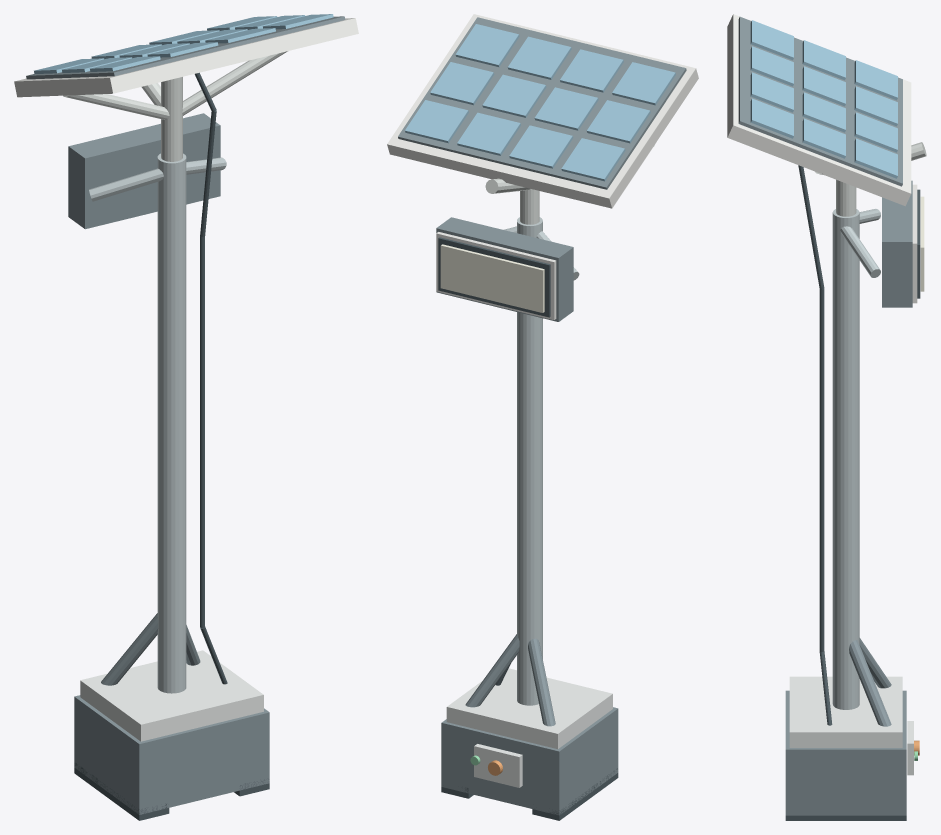
Rendered from exterior_solar_floodlight.glb.
3 views of the same model, side by side, from view 1: azimuth 30°, elevation 25°; view 2: azimuth 150°, elevation 25°; view 3: azimuth 270°, elevation 25° (orthographic). The views are drawn at different scales.
Parts seen in each view (by area): view 1: support_mast_alloy, battery_base_dark_alloy, lamp_frame_dark_alloy, battery_lid_white_ceramic, solar_backplate_white_painted, solar_cells_cool_blue, solar_wiring_black_rubber, solar_supports_satin_steel, solar_cell_bed_dark_alloy, upper_mast_satin_steel, base_support_dark_alloy, lamp_brace_alloy (+1 smaller); view 2: solar_cells_cool_blue, battery_base_dark_alloy, solar_cell_bed_dark_alloy, support_mast_alloy, solar_backplate_white_painted, battery_lid_white_ceramic, led_emitter_light_diffuser, lamp_frame_dark_alloy, base_support_dark_alloy, lamp_gasket_black_rubber, lamp_housing_white_painted, switch_pocket_white_ceramic (+2 smaller); view 3: solar_cells_cool_blue, support_mast_alloy, battery_base_dark_alloy, battery_lid_white_ceramic, solar_backplate_white_painted, solar_cell_bed_dark_alloy, lamp_frame_dark_alloy, solar_wiring_black_rubber, base_support_dark_alloy, lamp_brace_alloy, ground_skids_black_rubber, lamp_housing_white_painted (+4 smaller).
Boxes of the visible parts, left/top/right/bottom form: support_mast_alloy: left=157, top=153, right=186, bottom=693; battery_base_dark_alloy: left=74, top=695, right=269, bottom=814; lamp_frame_dark_alloy: left=68, top=113, right=220, bottom=229; battery_lid_white_ceramic: left=80, top=650, right=263, bottom=741; solar_backplate_white_painted: left=14, top=18, right=358, bottom=97; solar_cells_cool_blue: left=34, top=14, right=333, bottom=74; solar_wiring_black_rubber: left=194, top=72, right=227, bottom=684; solar_supports_satin_steel: left=63, top=51, right=287, bottom=119; solar_cell_bed_dark_alloy: left=26, top=16, right=345, bottom=79; upper_mast_satin_steel: left=161, top=77, right=182, bottom=161; base_support_dark_alloy: left=101, top=613, right=200, bottom=685; lamp_brace_alloy: left=89, top=157, right=226, bottom=201; solar_cells_cool_blue: left=405, top=24, right=675, bottom=181; battery_base_dark_alloy: left=441, top=707, right=618, bottom=815; solar_cell_bed_dark_alloy: left=398, top=17, right=686, bottom=189; support_mast_alloy: left=517, top=217, right=542, bottom=705; solar_backplate_white_painted: left=387, top=14, right=698, bottom=208; battery_lid_white_ceramic: left=446, top=668, right=612, bottom=749; led_emitter_light_diffuser: left=440, top=244, right=544, bottom=312; lamp_frame_dark_alloy: left=436, top=217, right=573, bottom=321; base_support_dark_alloy: left=465, top=634, right=555, bottom=726; lamp_gasket_black_rubber: left=438, top=237, right=550, bottom=317; lamp_housing_white_painted: left=436, top=232, right=556, bottom=320; switch_pocket_white_ceramic: left=474, top=744, right=522, bottom=787; solar_cells_cool_blue: left=750, top=20, right=897, bottom=178; support_mast_alloy: left=832, top=209, right=859, bottom=709; battery_base_dark_alloy: left=785, top=690, right=906, bottom=815; battery_lid_white_ceramic: left=789, top=676, right=902, bottom=747; solar_backplate_white_painted: left=727, top=14, right=911, bottom=206; solar_cell_bed_dark_alloy: left=738, top=16, right=902, bottom=186; lamp_frame_dark_alloy: left=882, top=180, right=912, bottom=307; solar_wiring_black_rubber: left=798, top=165, right=832, bottom=725; base_support_dark_alloy: left=849, top=638, right=891, bottom=726; lamp_brace_alloy: left=840, top=209, right=880, bottom=277; ground_skids_black_rubber: left=785, top=815, right=906, bottom=820; lamp_housing_white_painted: left=912, top=184, right=917, bottom=303.
Size of the model in its own units: 0.981 by 2.97 by 0.7413.
